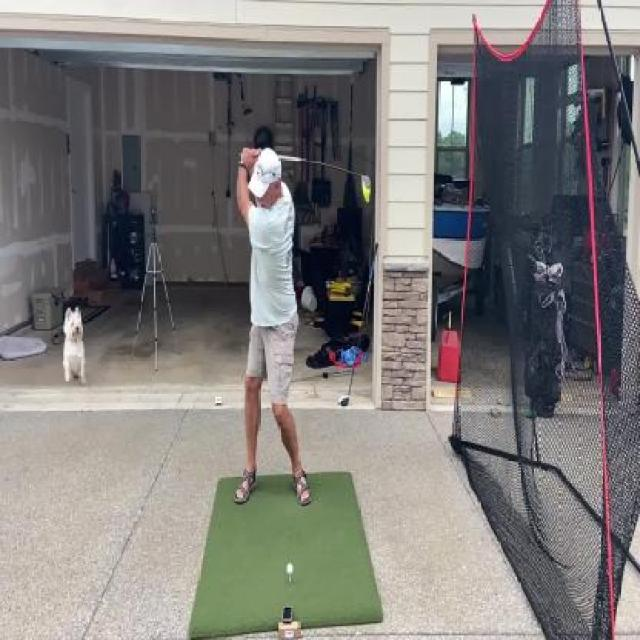club head: (358, 172, 372, 205)
